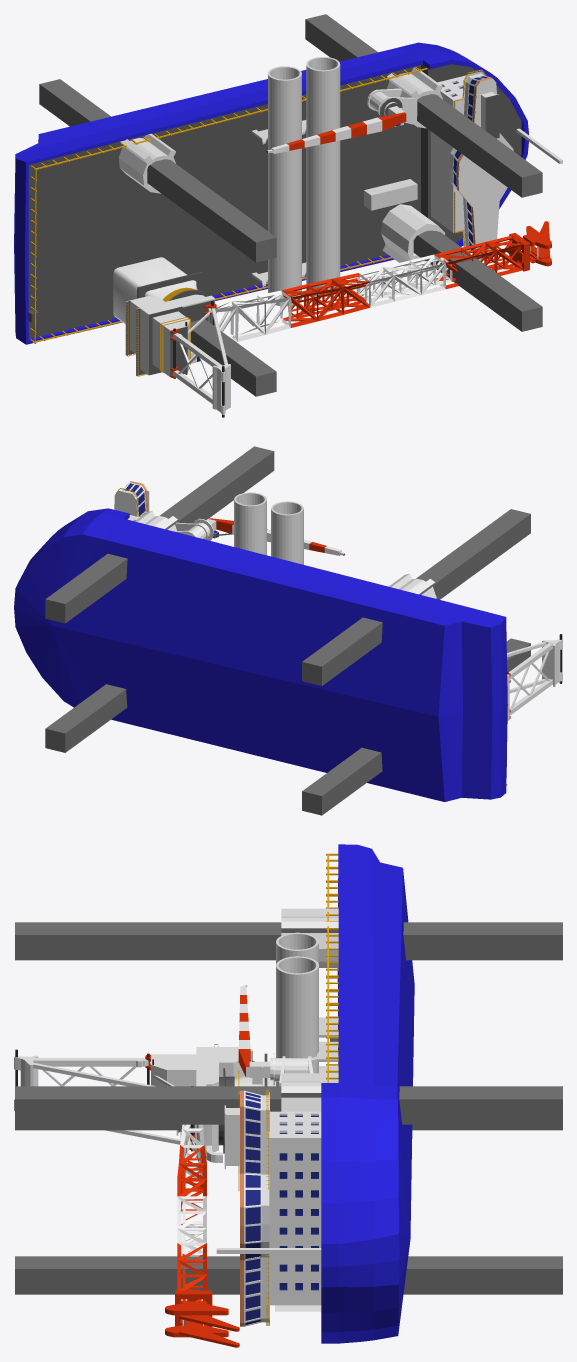
Rendered from sep_ship_the_wind2.glb.
3 renders of one model, top to bottom at view 1: azimuth 30°, elevation 25°; view 2: azimuth 150°, elevation 25°; view 3: azimuth 270°, elevation 25°, orthographic. The views are drawn at different scales.
Parts seen in each view (by area): view 1: SEP_base, SEP_leg, Cylinder.003, SEP_beam, SEP_main_crane_yaw, SEP_beam2, SEP_sub_crane, Cube.055; view 2: SEP_base, SEP_leg, Cylinder.003, SEP_main_crane_yaw, SEP_sub_crane; view 3: SEP_base, SEP_leg, SEP_main_crane_yaw, Cylinder.003, SEP_beam, SEP_beam2, SEP_sub_crane, Plane.016.
Part boxes in pixels (bbox=[...]): SEP_base: bbox=[14, 42, 562, 344]; SEP_leg: bbox=[39, 14, 542, 396]; Cylinder.003: bbox=[268, 57, 340, 306]; SEP_beam: bbox=[208, 233, 529, 342]; SEP_main_crane_yaw: bbox=[125, 289, 230, 417]; SEP_beam2: bbox=[288, 221, 551, 318]; SEP_sub_crane: bbox=[266, 112, 406, 153]; Cube.055: bbox=[364, 179, 417, 210]; SEP_base: bbox=[14, 481, 507, 801]; SEP_leg: bbox=[45, 446, 530, 815]; Cylinder.003: bbox=[234, 492, 303, 564]; SEP_main_crane_yaw: bbox=[507, 634, 562, 720]; SEP_sub_crane: bbox=[209, 518, 344, 555]; SEP_base: bbox=[216, 844, 414, 1343]; SEP_leg: bbox=[15, 922, 562, 1294]; SEP_main_crane_yaw: bbox=[14, 1044, 244, 1162]; Cylinder.003: bbox=[276, 932, 318, 1086]; SEP_beam: bbox=[175, 1124, 212, 1326]; SEP_beam2: bbox=[165, 1158, 239, 1347]; SEP_sub_crane: bbox=[238, 985, 252, 1077]; Plane.016: bbox=[311, 1017, 338, 1062].
Size of the model in its own units: 521 by 235 by 391.
